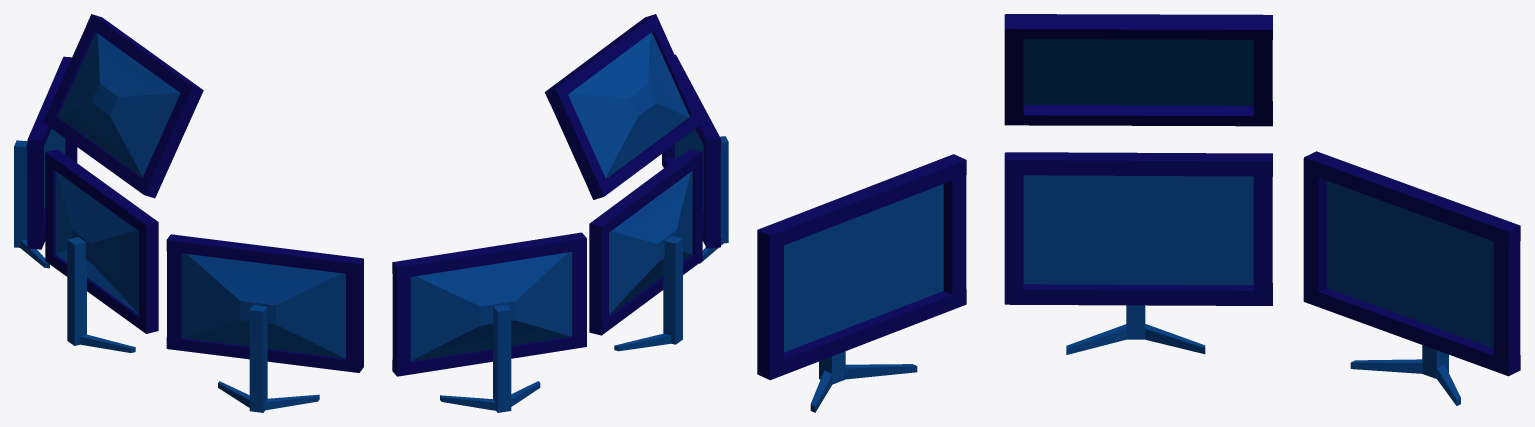
Rendered from monitorframe.glb.
3 views of the same model, side by side, from view 1: azimuth 30°, elevation 25°; view 2: azimuth 150°, elevation 25°; view 3: azimuth 270°, elevation 25° (orthographic). The views are drawn at different scales.
Visible parts, largest first — view 1: Cube.052, Cube.005, Cube.004, Cube.050, Cube.008, Cube.002, Cube.051, Cube.001, Cube.021, Cube.053, Cube.007, Cube.049 (+12 smaller); view 2: Cube.043, Cube.005, Cube.004, Cube.045, Cube.002, Cube.044, Cube.009, Cube.007, Cube.021, Cube.042, Cube.047, Cube (+13 smaller); view 3: Cube.004, Cube.043, Cube.052, Cube.005, Cube.007, Cube.002, Cube.045, Cube.003, Cube.006, Cube.050, Cube.044, Cube.051 (+13 smaller).
Boxes of the visible parts, x1,y1,x2,y2 form: Cube.052: [181, 253, 345, 358]; Cube.005: [58, 32, 180, 177]; Cube.004: [55, 171, 139, 314]; Cube.050: [166, 234, 363, 273]; Cube.008: [137, 82, 203, 197]; Cube.002: [45, 149, 158, 235]; Cube.051: [166, 337, 359, 372]; Cube.001: [139, 221, 158, 333]; Cube.021: [67, 237, 86, 345]; Cube.053: [249, 305, 267, 412]; Cube.007: [86, 14, 203, 94]; Cube.049: [346, 259, 363, 372]; Cube.043: [410, 252, 572, 361]; Cube.005: [568, 32, 689, 178]; Cube.004: [609, 171, 692, 315]; Cube.045: [392, 232, 586, 278]; Cube.002: [589, 149, 702, 237]; Cube.044: [392, 336, 586, 376]; Cube.009: [550, 84, 610, 191]; Cube.007: [544, 14, 655, 103]; Cube.021: [663, 236, 682, 344]; Cube.042: [493, 305, 511, 412]; Cube.047: [392, 266, 410, 375]; Cube: [589, 222, 608, 334]; Cube.004: [1023, 175, 1253, 285]; Cube.043: [1326, 181, 1493, 348]; Cube.052: [784, 184, 943, 352]; Cube.005: [1023, 39, 1253, 105]; Cube.007: [1005, 14, 1272, 39]; Cube.002: [1005, 152, 1272, 176]; Cube.045: [1304, 151, 1520, 246]; Cube.003: [1005, 283, 1272, 305]; Cube.006: [1005, 101, 1272, 126]; Cube.050: [757, 154, 966, 250]; Cube.044: [1304, 287, 1520, 376]; Cube.051: [759, 289, 966, 380].
Bounding box in the file's own units: 25.07 × 42.43 × 80.52.
